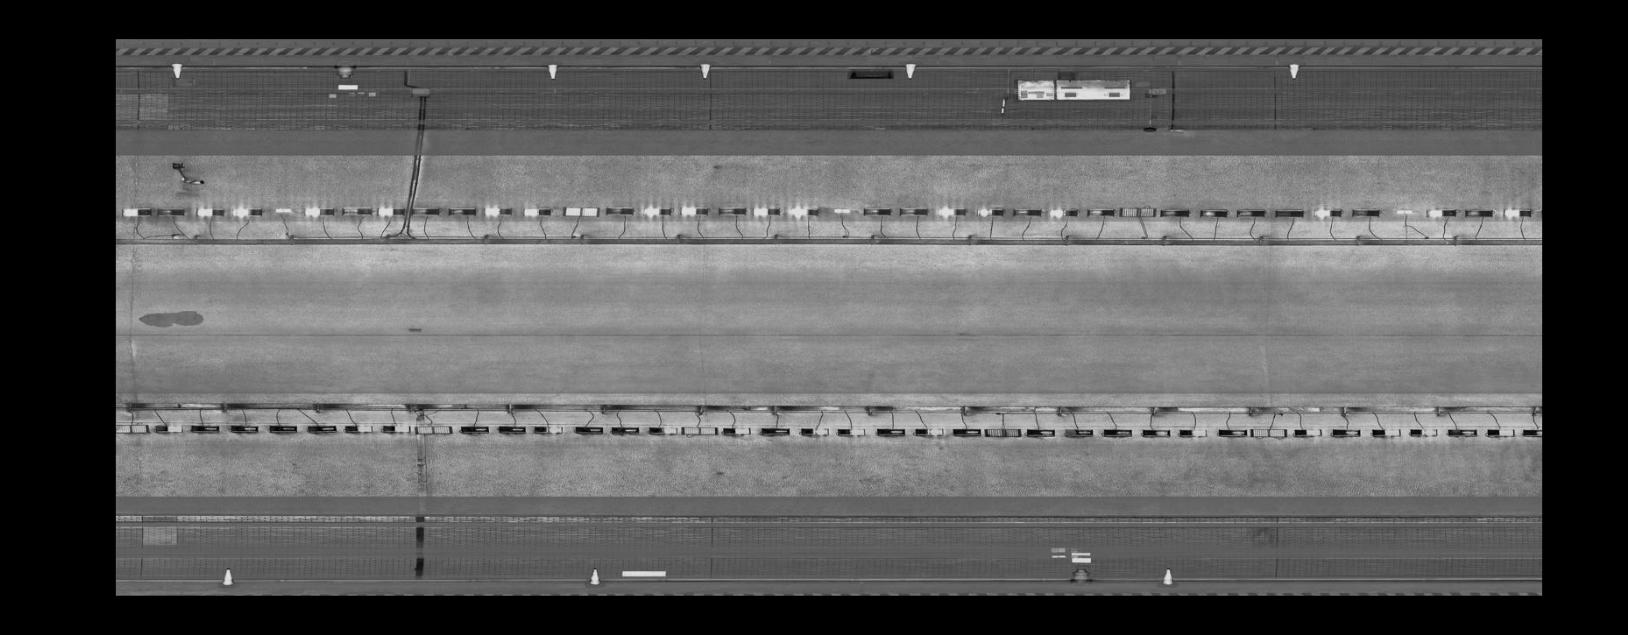light: (411, 421, 455, 437), (560, 203, 602, 219), (1247, 424, 1288, 439), (980, 424, 1024, 438), (786, 202, 821, 219), (1118, 204, 1158, 219), (116, 420, 151, 437), (517, 203, 553, 219), (480, 203, 515, 219), (679, 423, 720, 437), (1288, 424, 1326, 439), (641, 202, 675, 218), (374, 202, 409, 217), (1156, 205, 1193, 219), (1195, 205, 1232, 219), (1501, 204, 1534, 220), (229, 204, 264, 219), (603, 203, 637, 218), (1062, 425, 1096, 440), (1100, 424, 1134, 439), (1423, 204, 1460, 218), (1484, 425, 1520, 439), (715, 203, 749, 218), (1175, 424, 1209, 439), (1272, 205, 1307, 219), (1347, 205, 1382, 219), (720, 423, 755, 437), (758, 423, 793, 437), (1444, 425, 1480, 439), (910, 424, 947, 437), (749, 204, 783, 218), (1083, 204, 1117, 218), (1234, 205, 1269, 219), (1310, 205, 1345, 219), (797, 423, 832, 437), (1215, 425, 1249, 439), (1368, 424, 1403, 438), (302, 204, 338, 217), (150, 421, 186, 434), (457, 423, 493, 436), (531, 423, 567, 436), (572, 423, 608, 436), (860, 204, 893, 218), (897, 204, 930, 218), (935, 204, 969, 218), (1047, 205, 1080, 219), (152, 205, 187, 218), (192, 205, 227, 218), (338, 203, 374, 216), (494, 423, 530, 436), (1330, 425, 1362, 439), (119, 205, 154, 218), (264, 422, 301, 434), (305, 422, 340, 435), (342, 422, 376, 435), (646, 423, 680, 436), (1406, 425, 1440, 438), (679, 204, 710, 218), (974, 204, 1005, 218), (1140, 425, 1171, 439), (186, 422, 222, 434), (445, 204, 479, 217), (1011, 205, 1044, 218), (1463, 206, 1496, 219), (409, 205, 444, 217), (833, 425, 868, 437), (873, 425, 908, 437), (949, 425, 984, 437), (609, 423, 642, 436), (1023, 426, 1060, 437), (227, 422, 261, 434), (379, 422, 412, 434), (1521, 424, 1542, 437), (1393, 206, 1416, 216), (831, 206, 853, 214), (270, 204, 294, 211)
